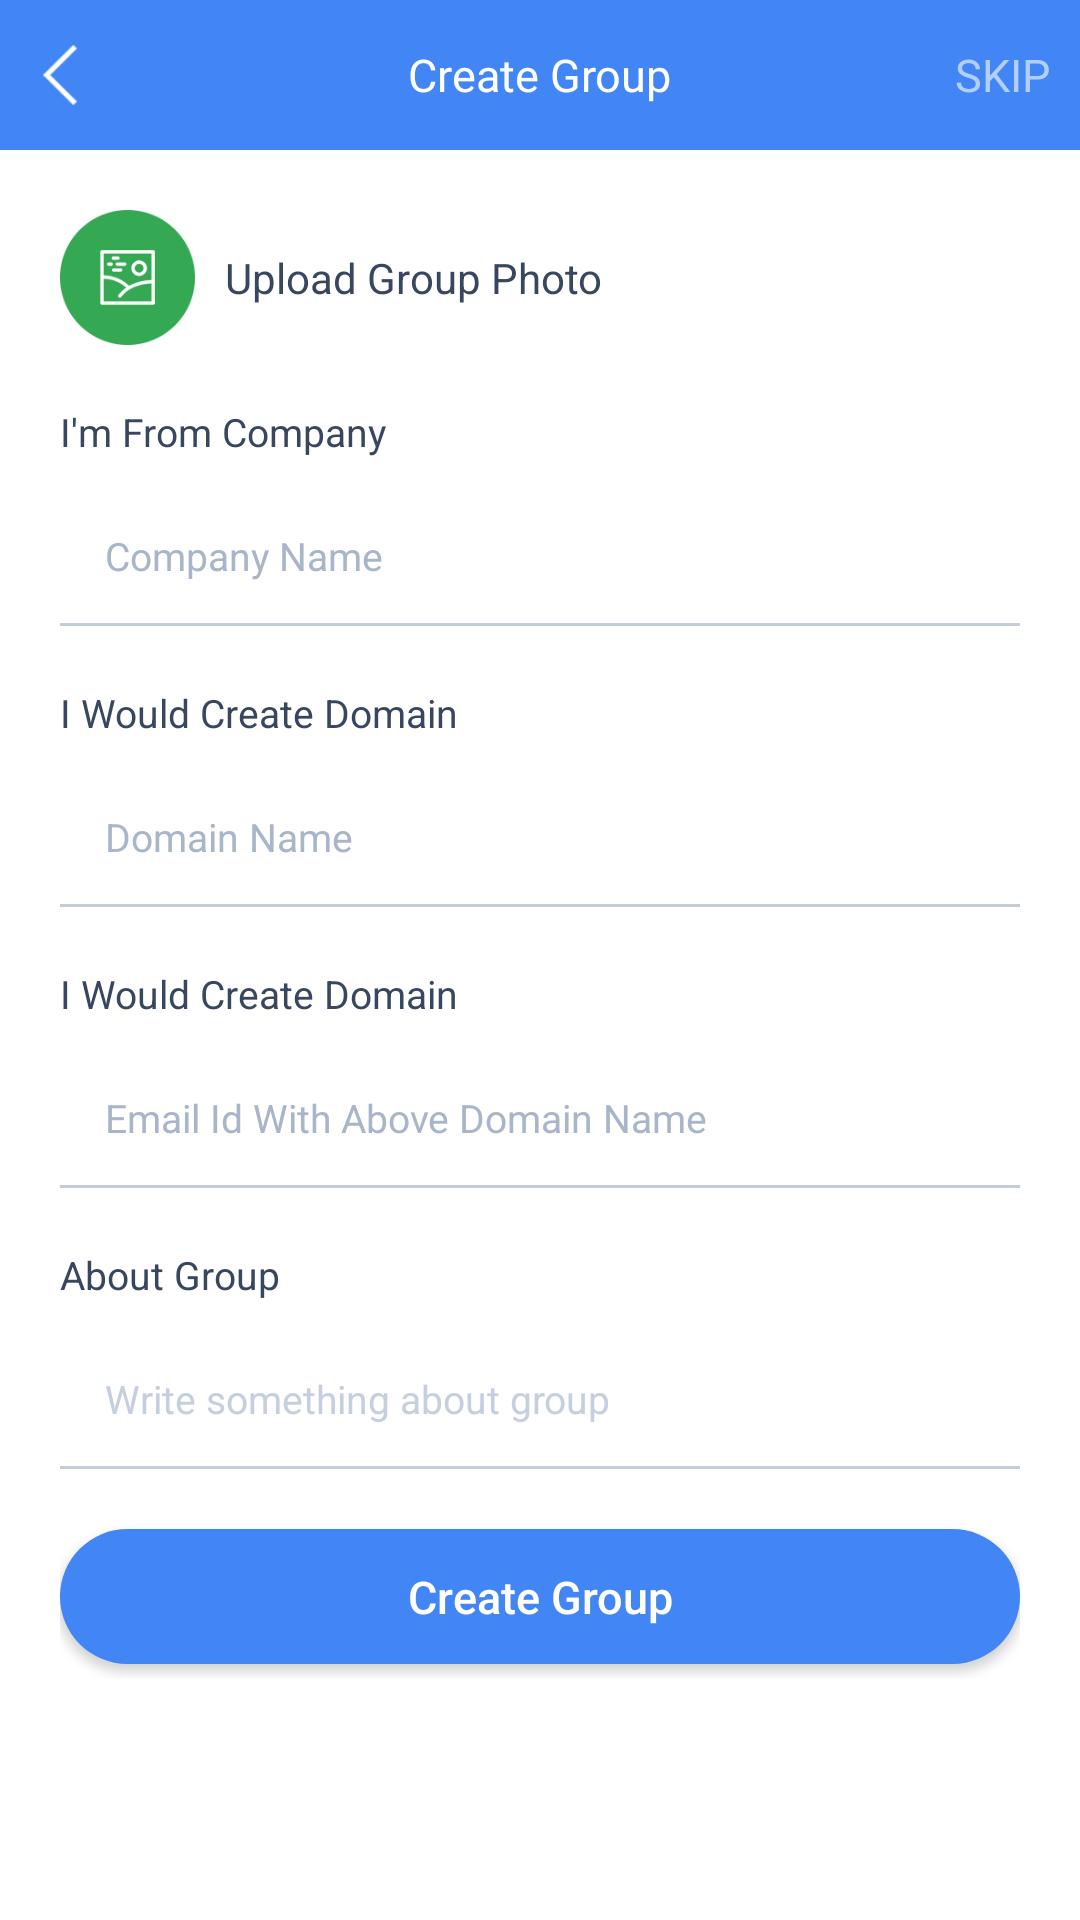

Where icons sit on this 1080 x 1920 app screen, as bbox=(x1, y1, x2, y2):
arrowback: bbox=(43, 45, 77, 105)
